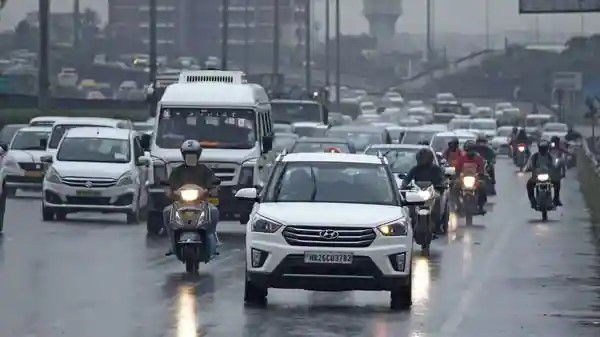LightVehicle: (243, 150, 419, 310), (41, 123, 145, 229)
MotorCycle: (163, 182, 216, 277), (453, 167, 486, 228), (526, 164, 559, 221)
